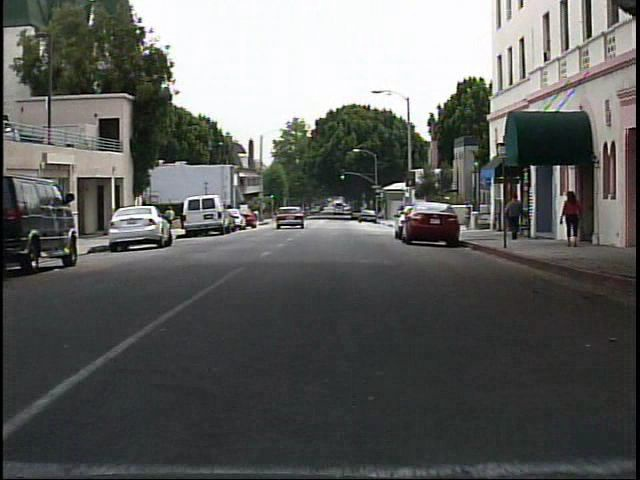person: (557, 189, 584, 248), (501, 191, 528, 241), (161, 201, 180, 234)
